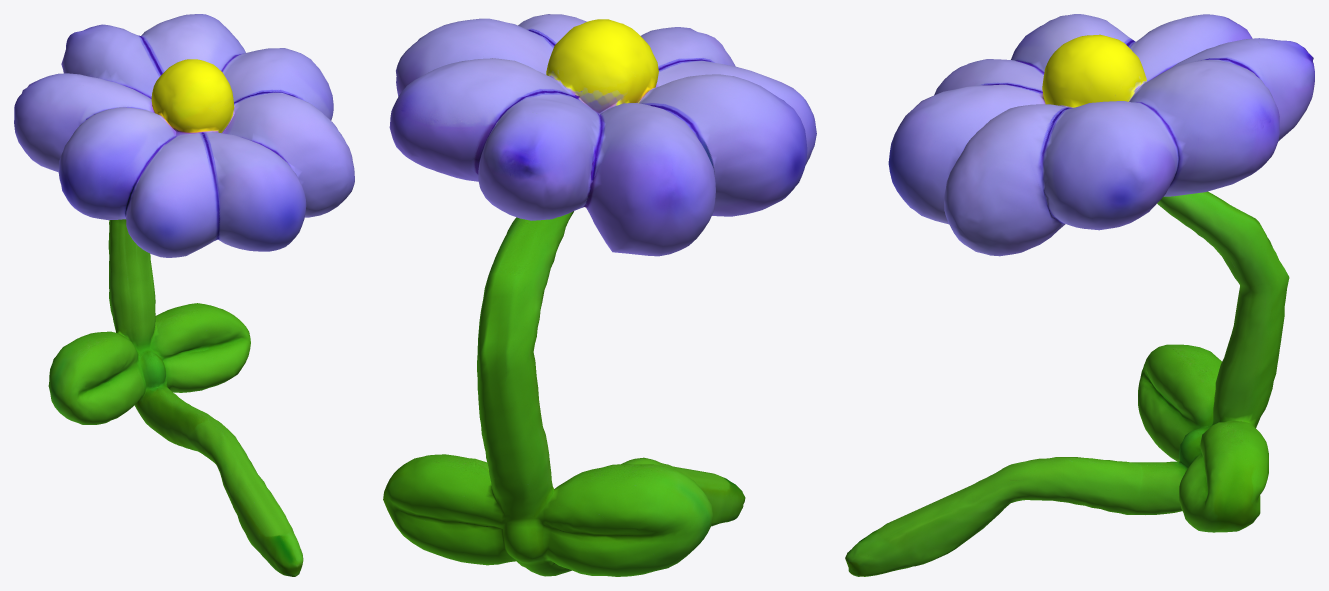
Rendered from purple-flower-balloon-ani.glb.
3 renders of one model, left to right at view 1: azimuth 30°, elevation 25°; view 2: azimuth 150°, elevation 25°; view 3: azimuth 270°, elevation 25°, orthographic. The views are drawn at different scales.
Visible parts, largest first — view 1: Mesh_0.002; view 2: Mesh_0.002; view 3: Mesh_0.002.
Part boxes in pixels (x1,y1,x2,y2): Mesh_0.002: (14, 14, 354, 576); Mesh_0.002: (383, 14, 816, 576); Mesh_0.002: (845, 14, 1314, 576).
Size of the model in its own units: 1.25 by 1.91 by 1.52.
Materials: 1 (1 with a texture image).
